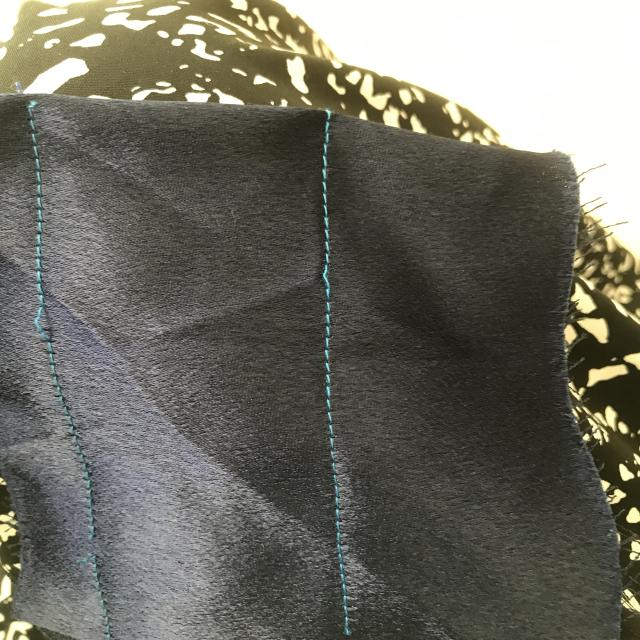broken: (69, 516, 110, 572)
skip: (17, 288, 65, 351)
